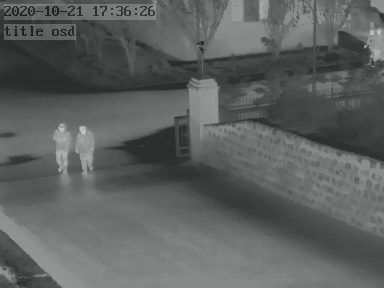person: (76, 123, 96, 175), (52, 120, 70, 174), (368, 23, 383, 60)
